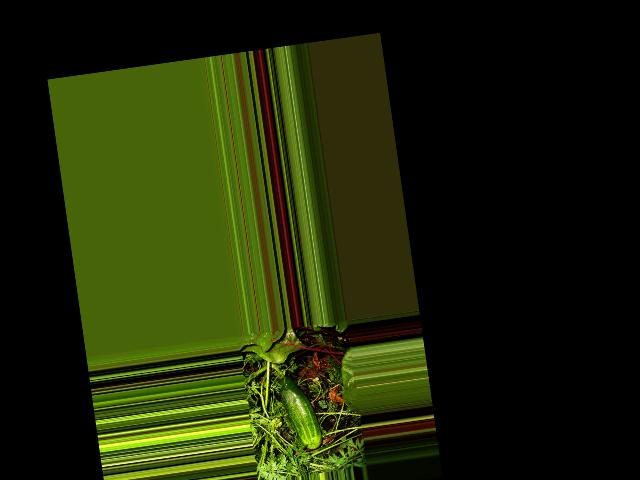cucumber: (275, 371, 323, 451)
